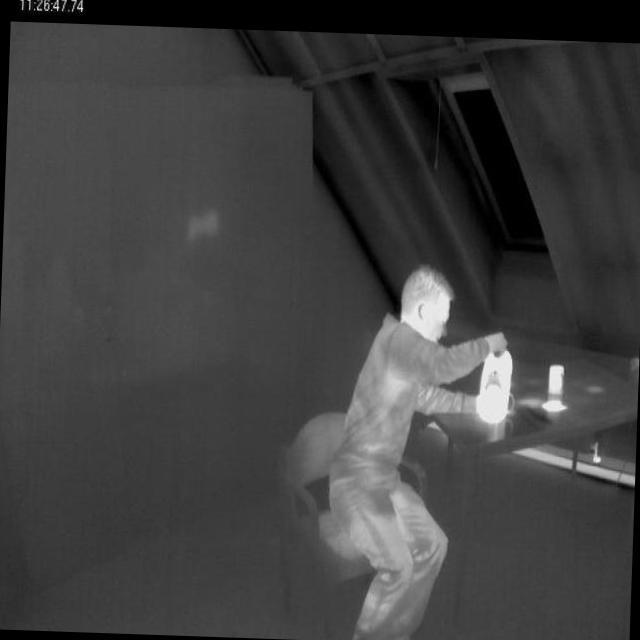person: (316, 252, 513, 640)
